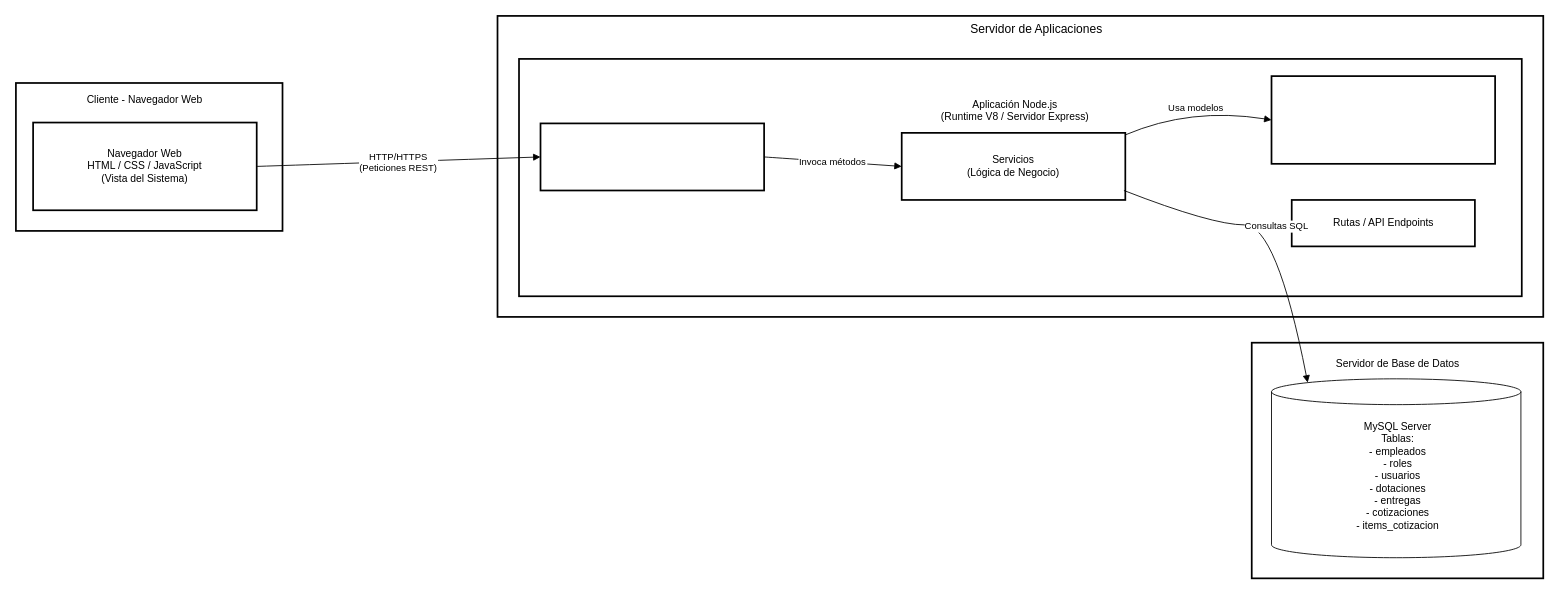
Image size: 1558x593. Some labels were removed from this diagram. The shapes that lost their labels are listed below. From the top down, each one's centre as x and y in pixels, then its label:
(1383,119): Modelos (Clases JS) Empleado, Dotacion, Entrega, Cotizacion
(652,156): Controladores REST (Express.js)
